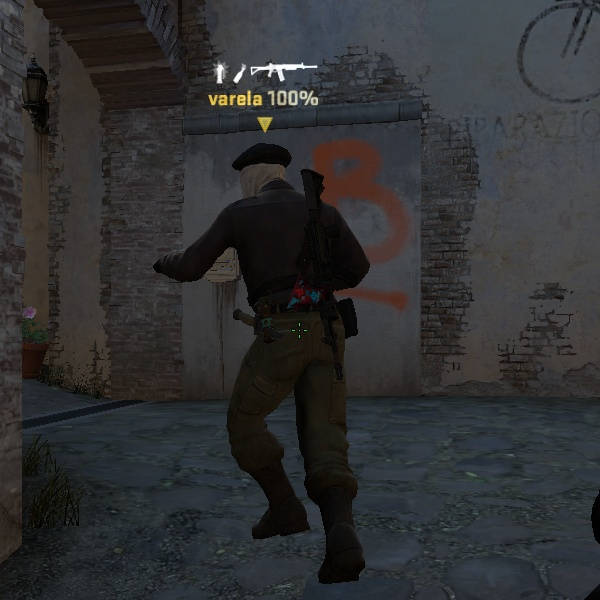t_body: (142, 135, 403, 547)
t_head: (220, 132, 311, 214)
